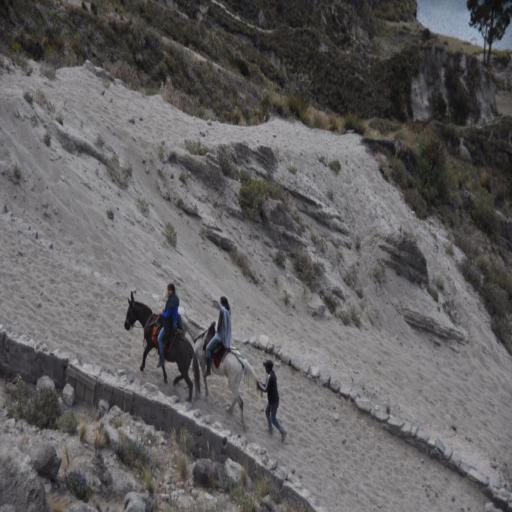horse: (178, 310, 260, 424), (124, 290, 200, 402)
